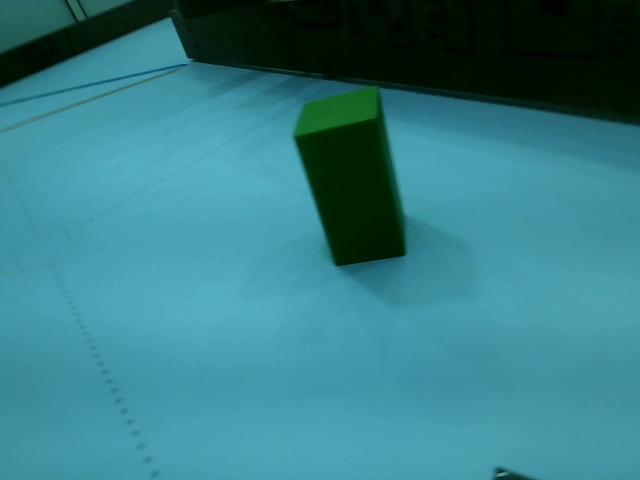green: (295, 100, 412, 265)
